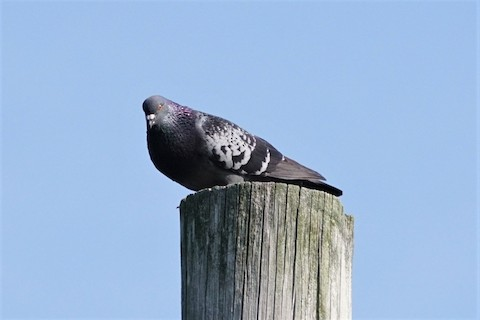pigeon: (139, 90, 345, 199)
